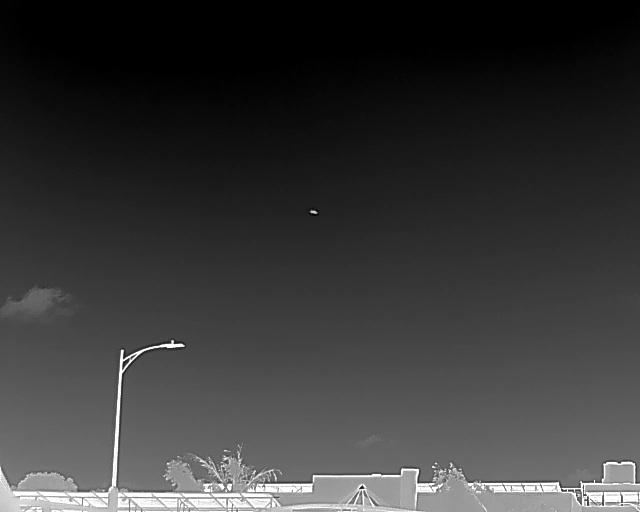fpv-drone: (309, 209, 318, 215)
